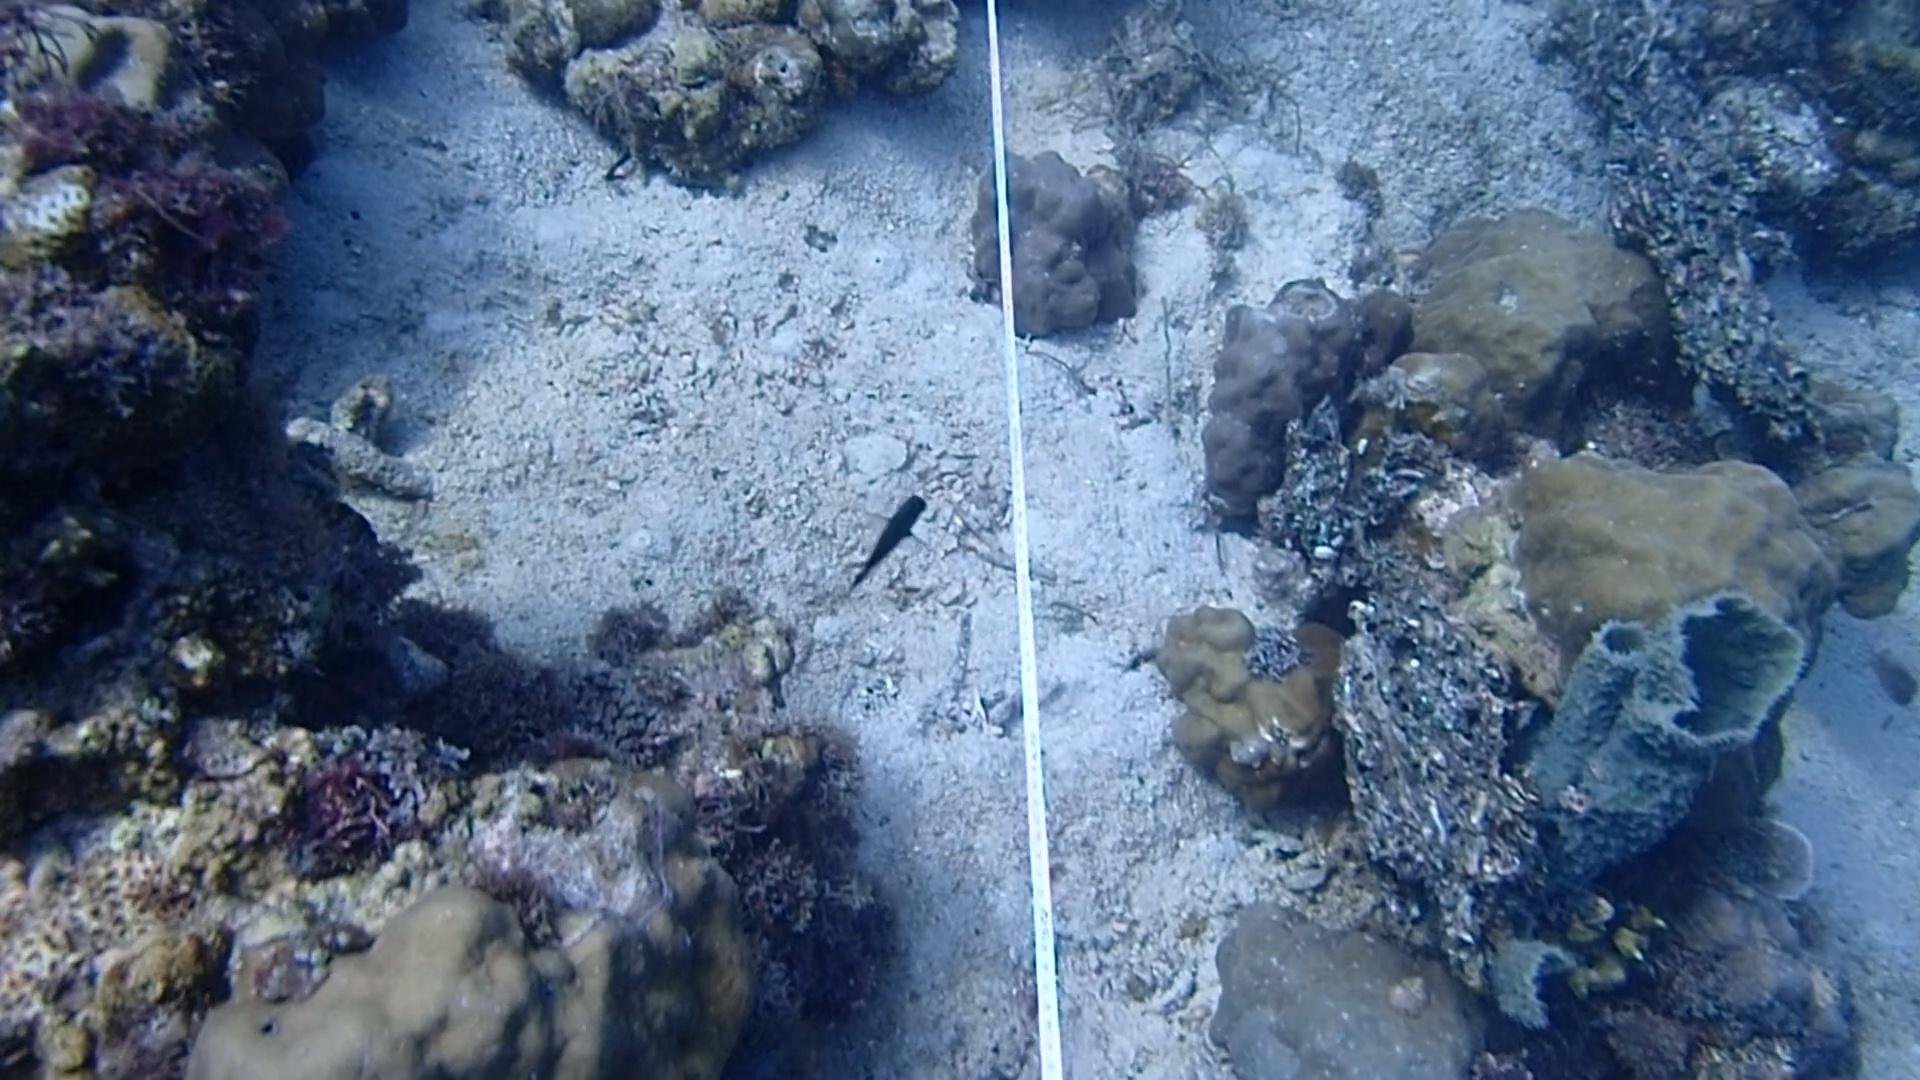Dark Fish: (835, 489, 943, 605)
